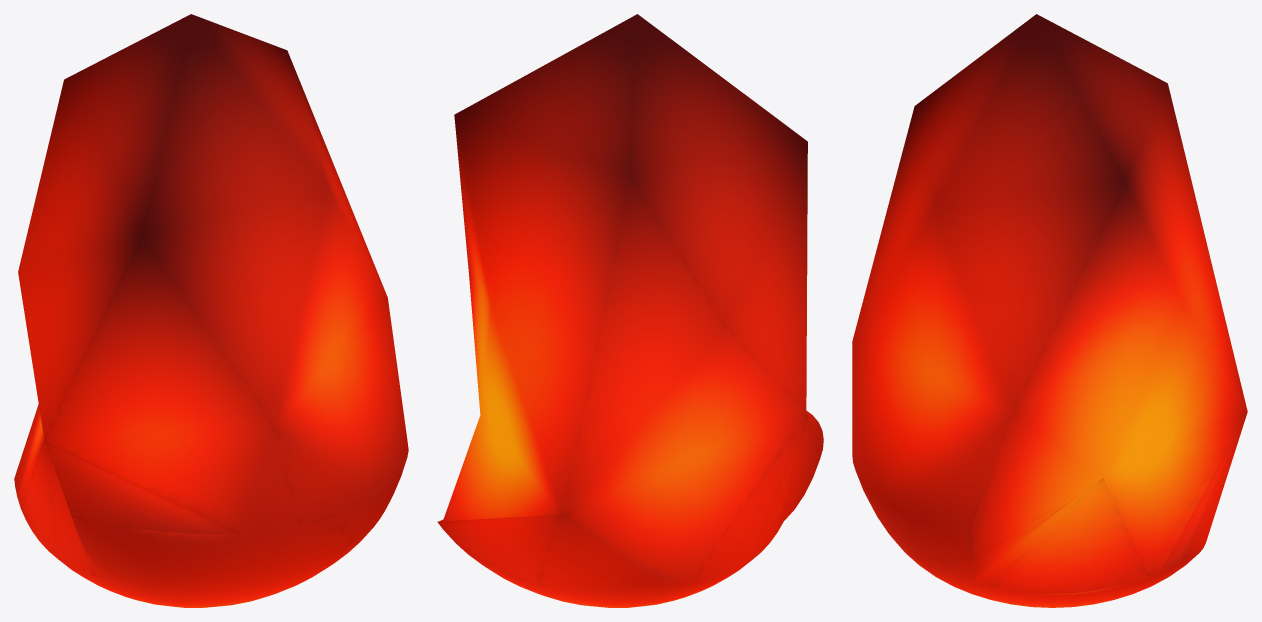
File: fireFrame1.fbx
3 renders of one model, left to right at view 1: azimuth 30°, elevation 25°; view 2: azimuth 150°, elevation 25°; view 3: azimuth 270°, elevation 25°, orthographic. The views are drawn at different scales.
Parts seen in each view (by area): view 1: fireFrame1_Baked; view 2: fireFrame1_Baked; view 3: fireFrame1_Baked.
Boxes of the visible parts, x1,y1,x2,y2 form: fireFrame1_Baked: (14, 14, 408, 607); fireFrame1_Baked: (437, 14, 823, 607); fireFrame1_Baked: (852, 14, 1247, 607).
Size of the model in its own units: 144 by 232 by 147.
